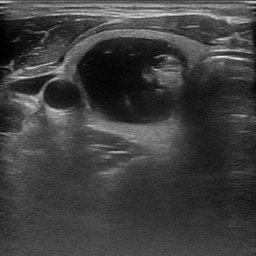mass: (78, 31, 187, 124)
